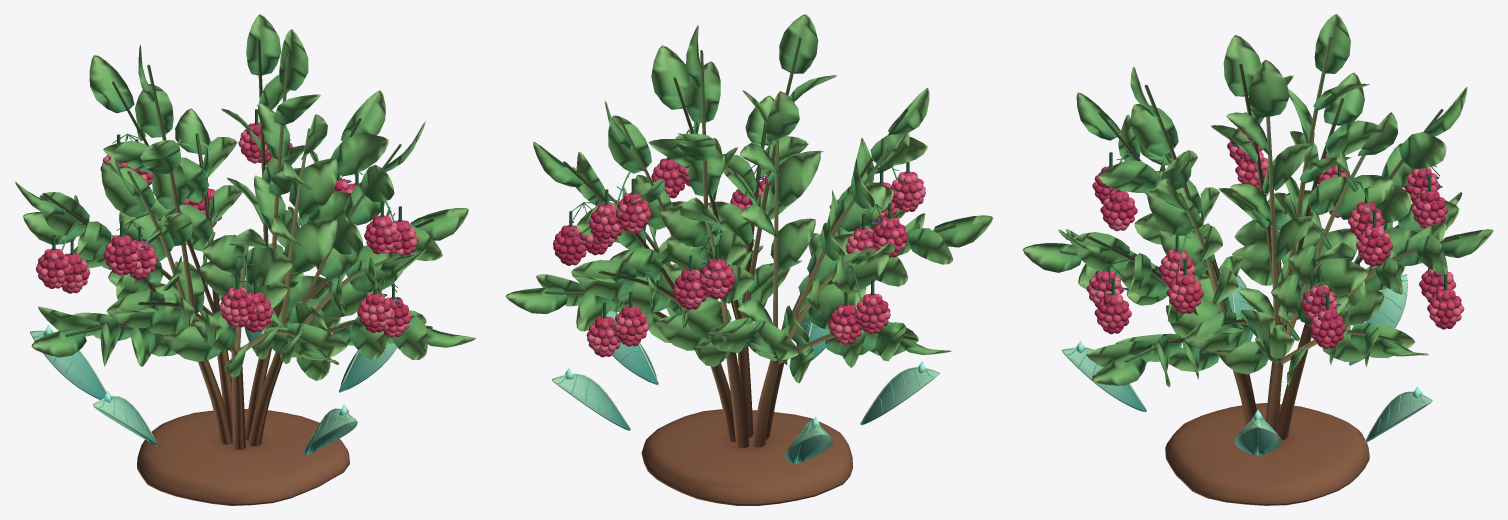
Rendered from enchanted-raspberry.glb.
3 views of the same model, side by side, from view 1: azimuth 30°, elevation 25°; view 2: azimuth 150°, elevation 25°; view 3: azimuth 270°, elevation 25° (orthographic).
Visible parts, largest first — view 1: raspberry, enchanted-raspberry-sculpted-details; view 2: raspberry, enchanted-raspberry-sculpted-details; view 3: raspberry, enchanted-raspberry-sculpted-details.
Boxes of the visible parts, x1,y1,x2,y2 form: raspberry: (14, 14, 476, 505); enchanted-raspberry-sculpted-details: (30, 310, 411, 454); raspberry: (505, 14, 993, 505); enchanted-raspberry-sculpted-details: (551, 311, 939, 463); raspberry: (1022, 14, 1493, 505); enchanted-raspberry-sculpted-details: (1062, 265, 1432, 455).
Bounding box in the file's own units: 1.01 × 1 × 1.01.
7 materials, 1 textured.
